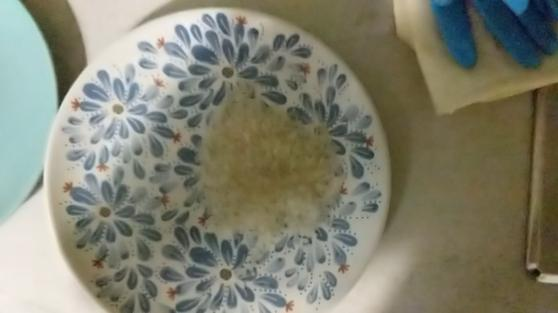rice: (186, 80, 360, 247)
